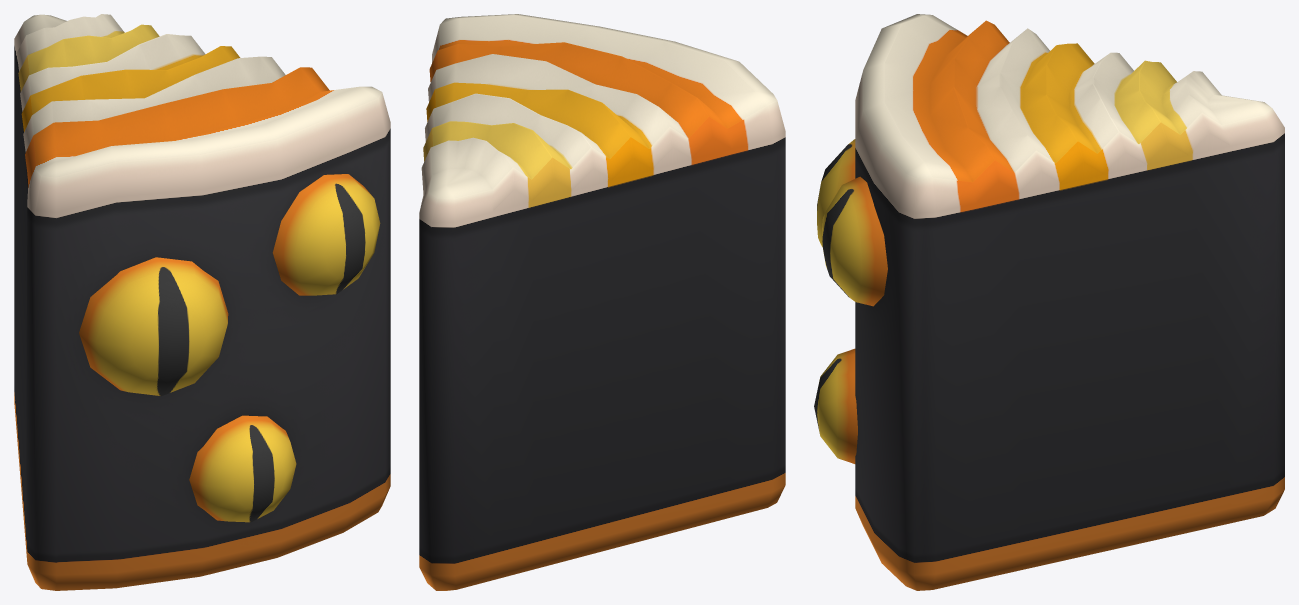
Rendered from cake_74.FBX.
The picture shows the model from 3 angles, left to right: view 1: azimuth 30°, elevation 25°; view 2: azimuth 150°, elevation 25°; view 3: azimuth 270°, elevation 25°; orthographic projection. The views are drawn at different scales.
Visible parts, largest first — view 1: cake_74; view 2: cake_74; view 3: cake_74.
Part boxes in pixels (left/top/right/bottom): cake_74: left=14, top=14, right=390, bottom=590; cake_74: left=419, top=14, right=785, bottom=590; cake_74: left=814, top=14, right=1284, bottom=590.
Bounding box in the file's own units: 4.83 × 5.79 × 5.57.
